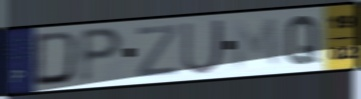D: (32, 29, 81, 88)
M: (231, 15, 282, 73)
P: (78, 25, 126, 86)
Q: (283, 14, 321, 67)
U: (180, 17, 227, 77)
Z: (135, 22, 180, 79)
